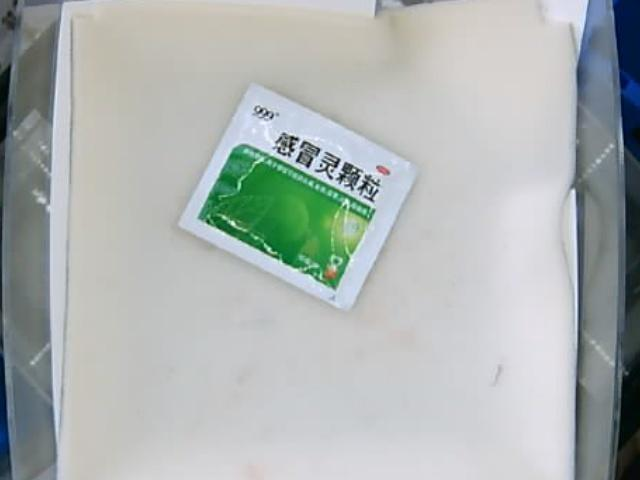Medicine: (172, 82, 413, 312)
